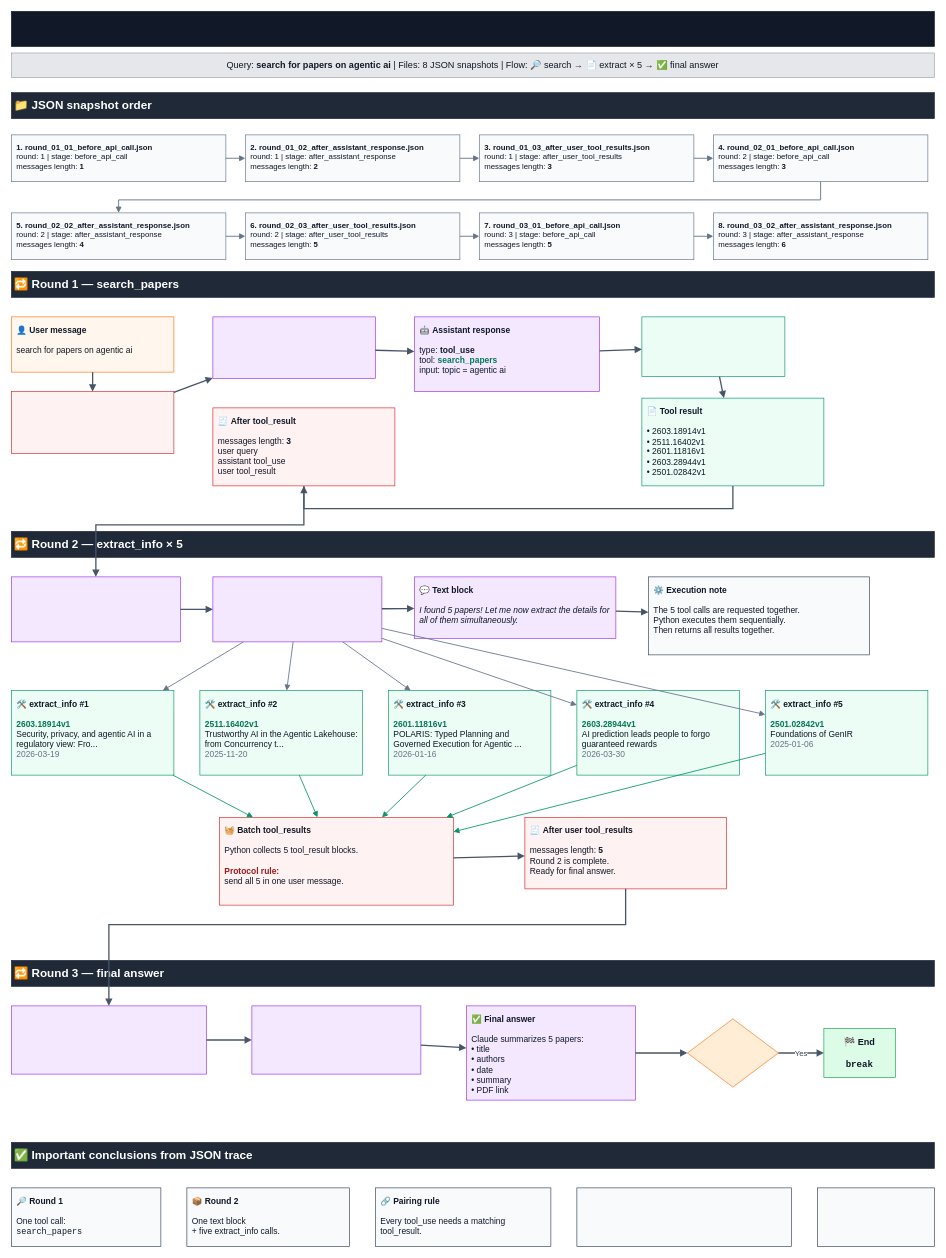
The diagram is 946 pixels wide and 1258 high, and some of its shapes have lost their labels. The centre of each missing label's shape, as x and y in pixels:
"◇ tool_results empty?" belongs at pixel 732 1052.
"➡️ Execution Tools are executed sequentially by Python." belongs at pixel 875 1216.
"🛠️ Tool execution search_papers Returns 5 paper IDs." belongs at pixel 713 346.
"🟪 API Call #1 Claude receives messages. It decides to call one tool." belongs at pixel 293 347.
"🟪 API Call #2 messages length: 3 Claude now sees the 5 real IDs." belongs at pixel 95 609.
"🟪 API Call #3 messages length: 5 Claude sees all extracted paper details." belongs at pixel 108 1039.
"🤖 Assistant response content blocks: 1 type: text no tool_use" belongs at pixel 336 1039.
"🤖 Assistant response content blocks: 6 1 text block 5 tool_use blocks" belongs at pixel 297 609.
"🧠 Messages JSON → Draw.io Agent Trace" belongs at pixel 472 28.
"🧠 State rule messages is full state. response.content is one output." belongs at pixel 683 1216.
"🧾 Before API messages length: 1 Only user query exists." belongs at pixel 92 422.
